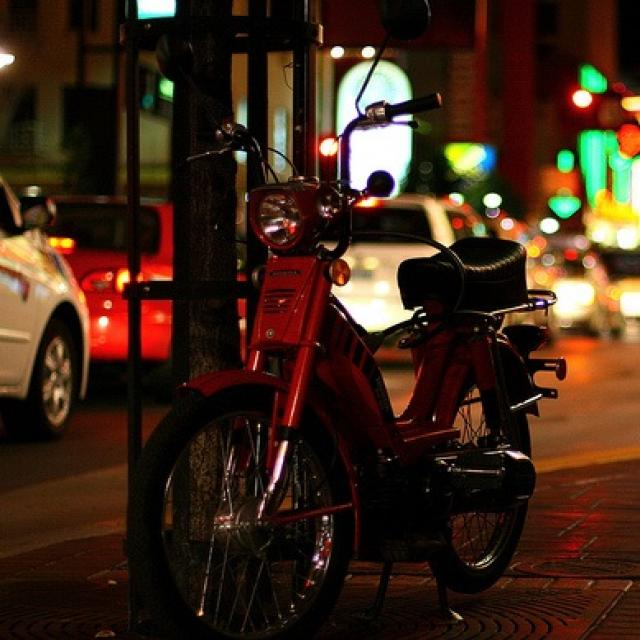Motorbike: (151, 115, 534, 638)
